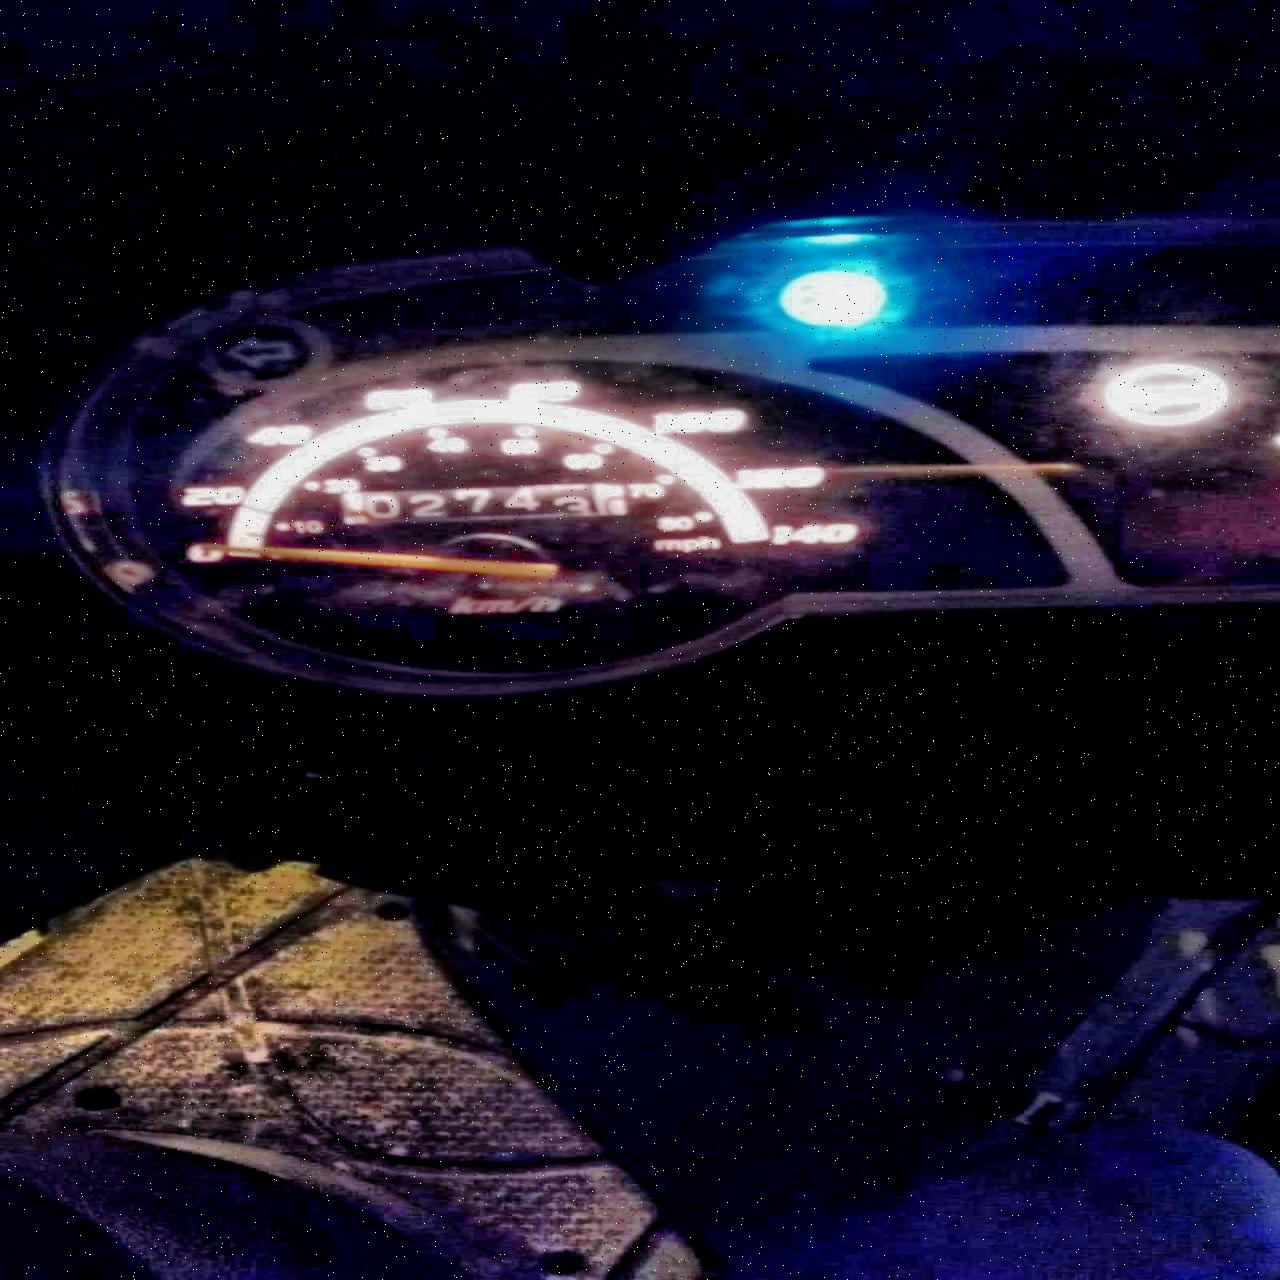0: (361, 491, 402, 519), (601, 492, 631, 519)
2: (408, 490, 447, 520)
3: (550, 493, 592, 519)
4: (504, 484, 546, 513)
7: (449, 488, 492, 515)
odometer: (338, 482, 631, 525)
